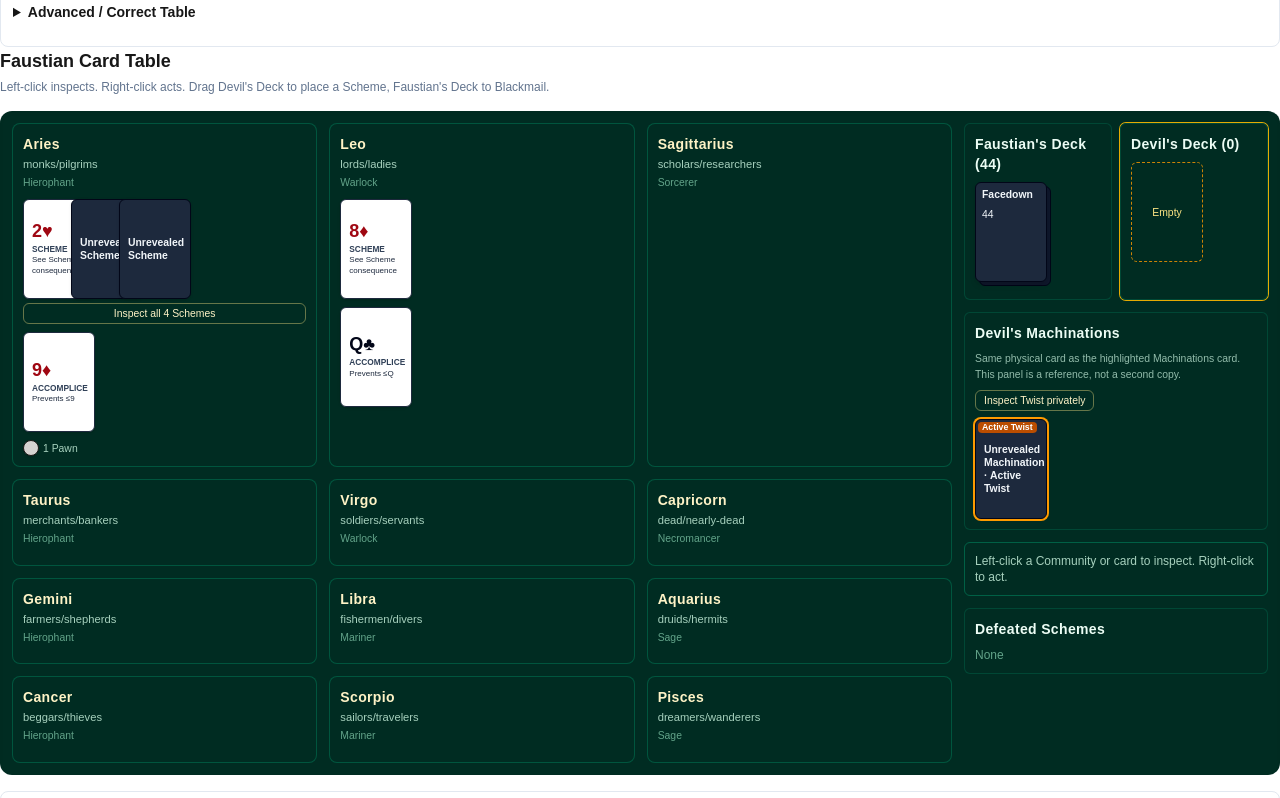
Test: Faustian surface presentation › inspects a Twist privately without calling a mutation
(page scrolled)
Click the button "Inspect Twist privately" at (1035, 400), box [975,390,1094,411]
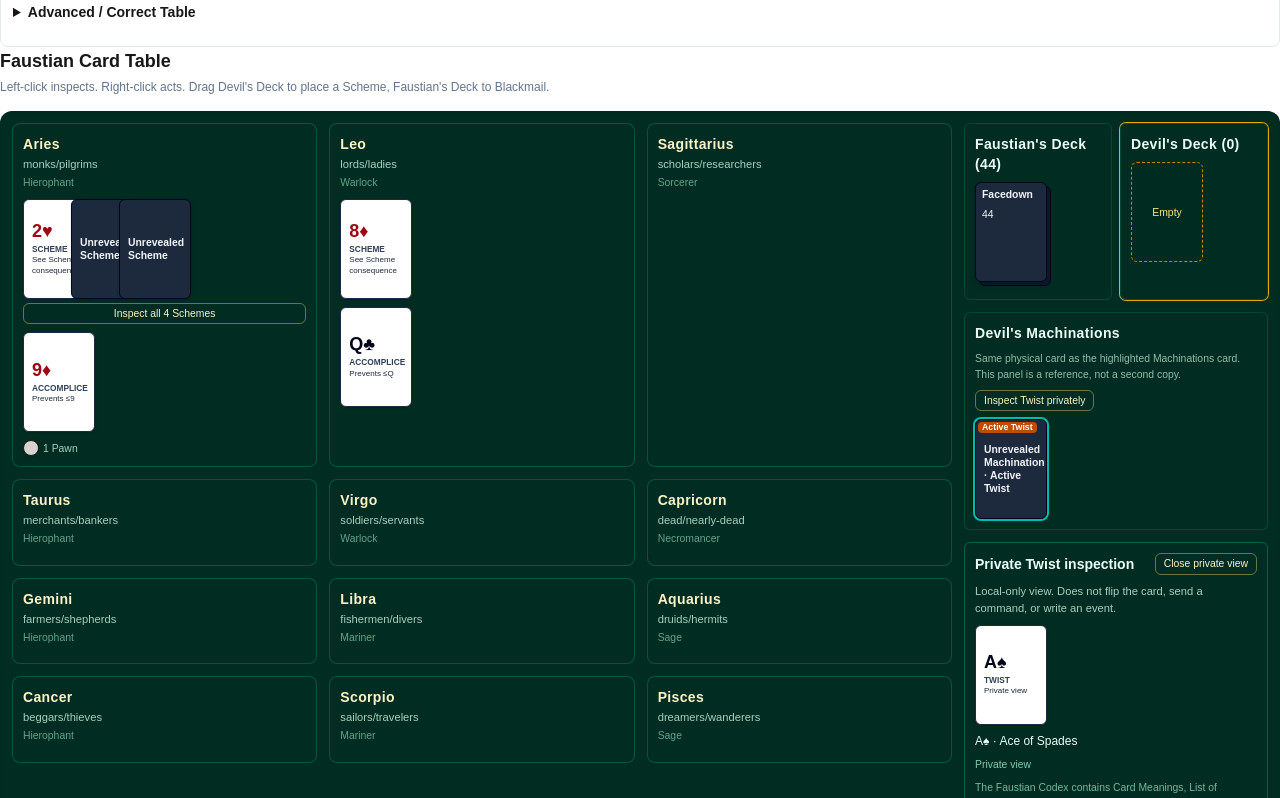
Expected: the text "Private Twist inspection" is shown, [975,554,1134,574]
Expected: the text "Ace of Spades" is shown, [999,734,1078,748]
Expected: the text "Local-only view" is shown, [975,585,1203,614]
